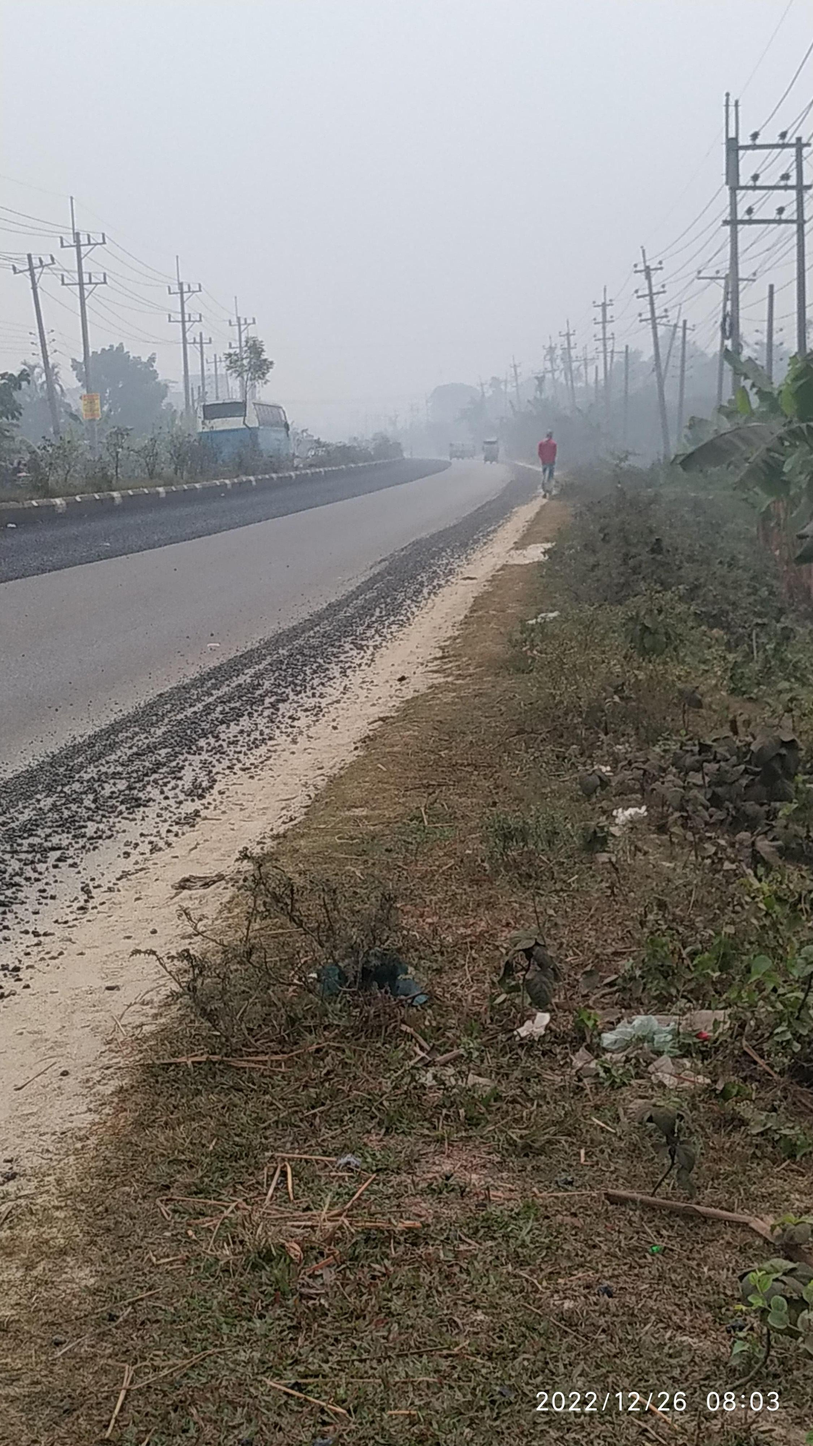Bus: (188, 376, 318, 491)
Car: (468, 428, 509, 479)
